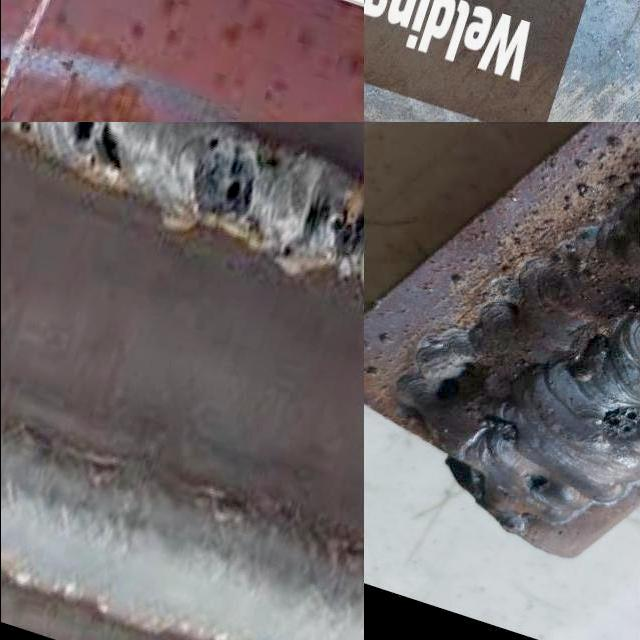defect: (191, 136, 264, 220), (298, 184, 364, 263), (67, 122, 132, 188), (473, 410, 522, 447), (596, 405, 640, 443), (518, 470, 552, 495), (12, 122, 40, 141)
